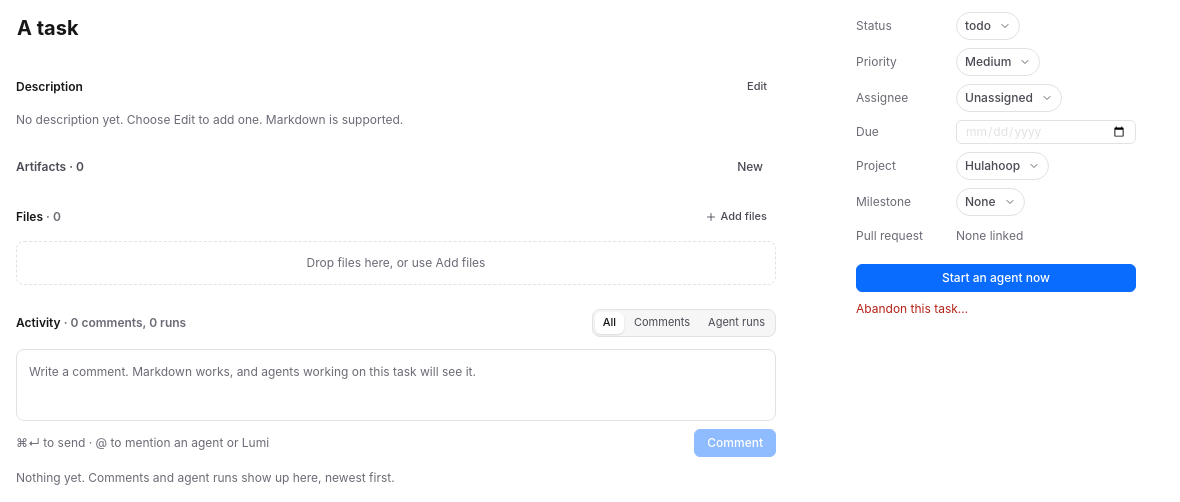
IssueDetail properties use the shared dropdown › Escape closes the popover without saving and refocuses the control
The image size is (1180, 502).
Click the button with aria-label "Priority".
click(998, 62)  # box x1=956 y1=48 x2=1040 y2=76
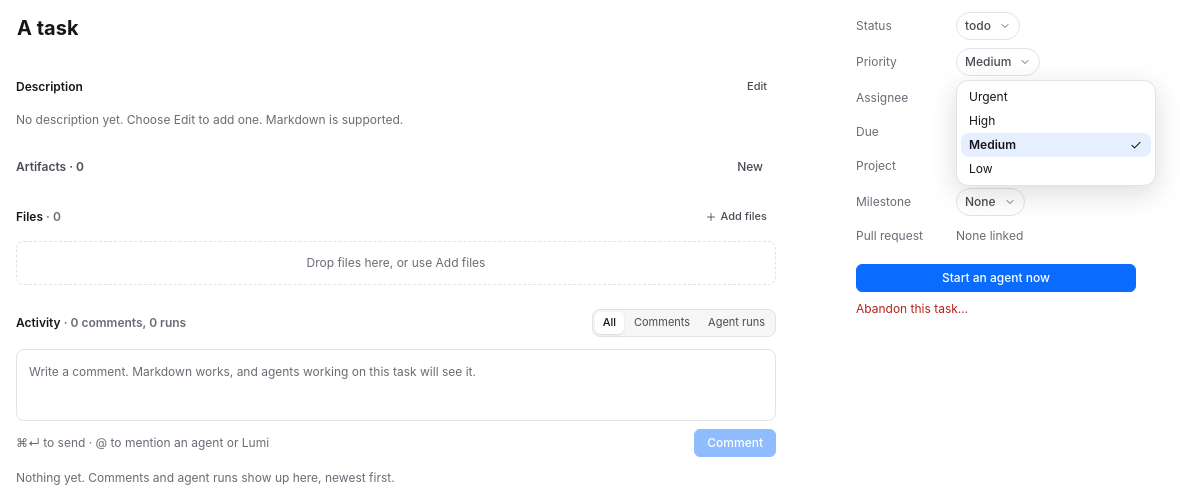
Press Escape
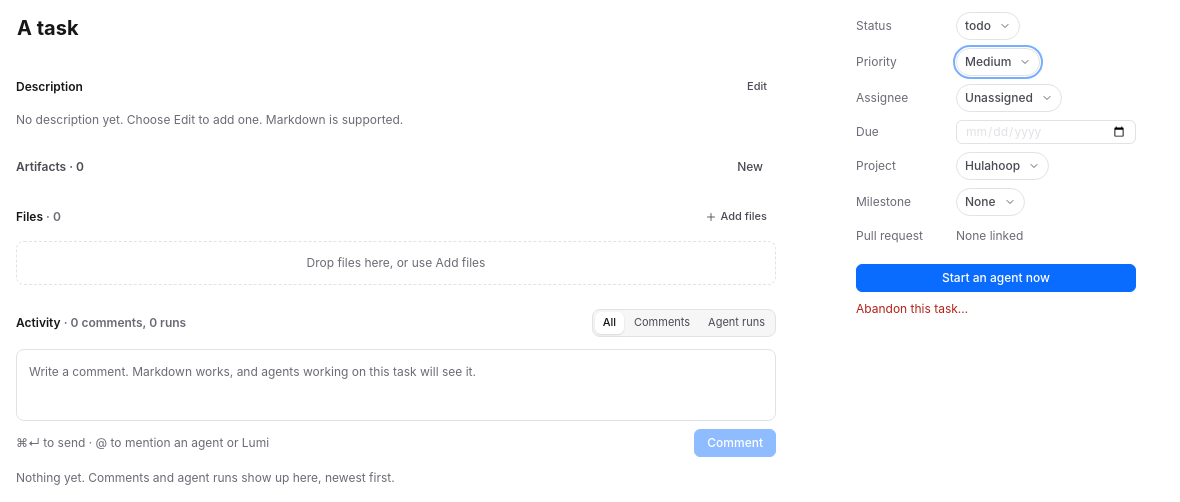
Now the element with class "sel-pop" is gone
